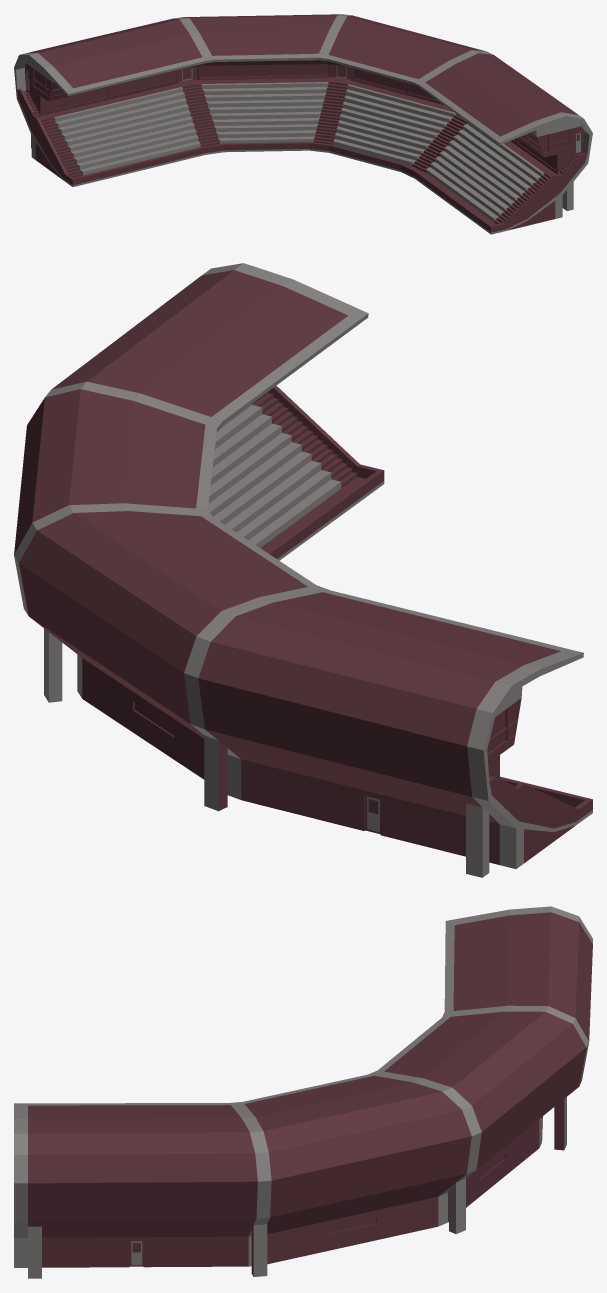
The model's file is racing-tribune-curve.glb.
3 views of the same model, one above another, from view 1: azimuth 30°, elevation 25°; view 2: azimuth 150°, elevation 25°; view 3: azimuth 270°, elevation 25° (orthographic). The views are drawn at different scales.
Visible parts, largest first — view 1: tribune-curve; view 2: tribune-curve; view 3: tribune-curve.
Part boxes in pixels (x1,y1,x2,y2): tribune-curve: (14,14,592,234); tribune-curve: (14,263,592,877); tribune-curve: (14,906,592,1278).
Bounding box in the file's own units: 41.52 × 10.84 × 41.52.
